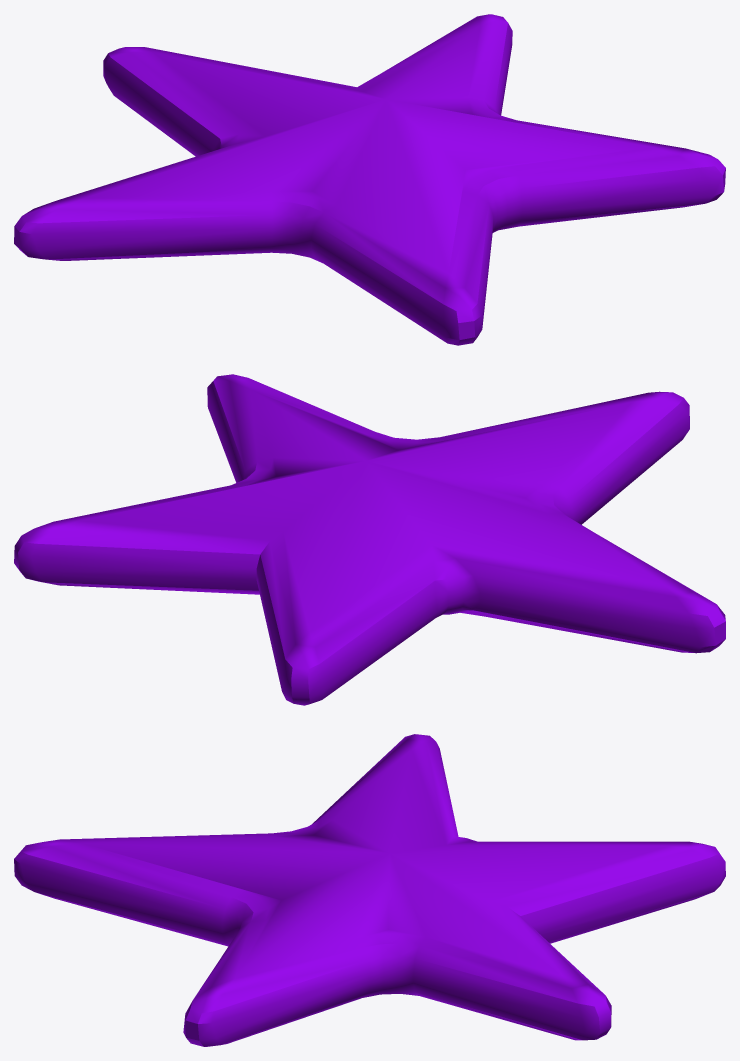
The model's file is zvezda5.fbx.
3 renders of one model, top to bottom at view 1: azimuth 30°, elevation 25°; view 2: azimuth 150°, elevation 25°; view 3: azimuth 270°, elevation 25°, orthographic. The views are drawn at different scales.
Visible parts, largest first — view 1: zvezda5; view 2: zvezda5; view 3: zvezda5.
Boxes of the visible parts, bbox=[...] form: zvezda5: bbox=[14, 14, 725, 345]; zvezda5: bbox=[14, 374, 725, 705]; zvezda5: bbox=[14, 734, 725, 1046].
Bounding box in the file's own units: 37.82 × 7.89 × 39.93.
